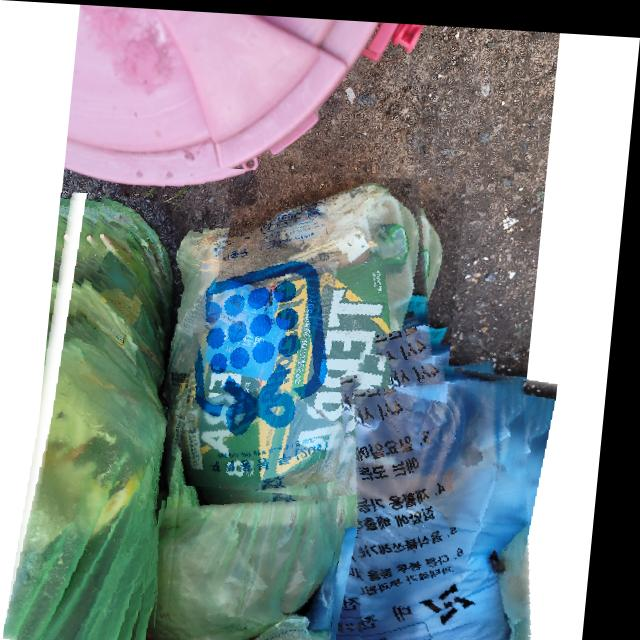general_trashbag: (147, 172, 447, 549), (16, 193, 209, 640), (356, 368, 543, 640), (170, 493, 346, 640)
